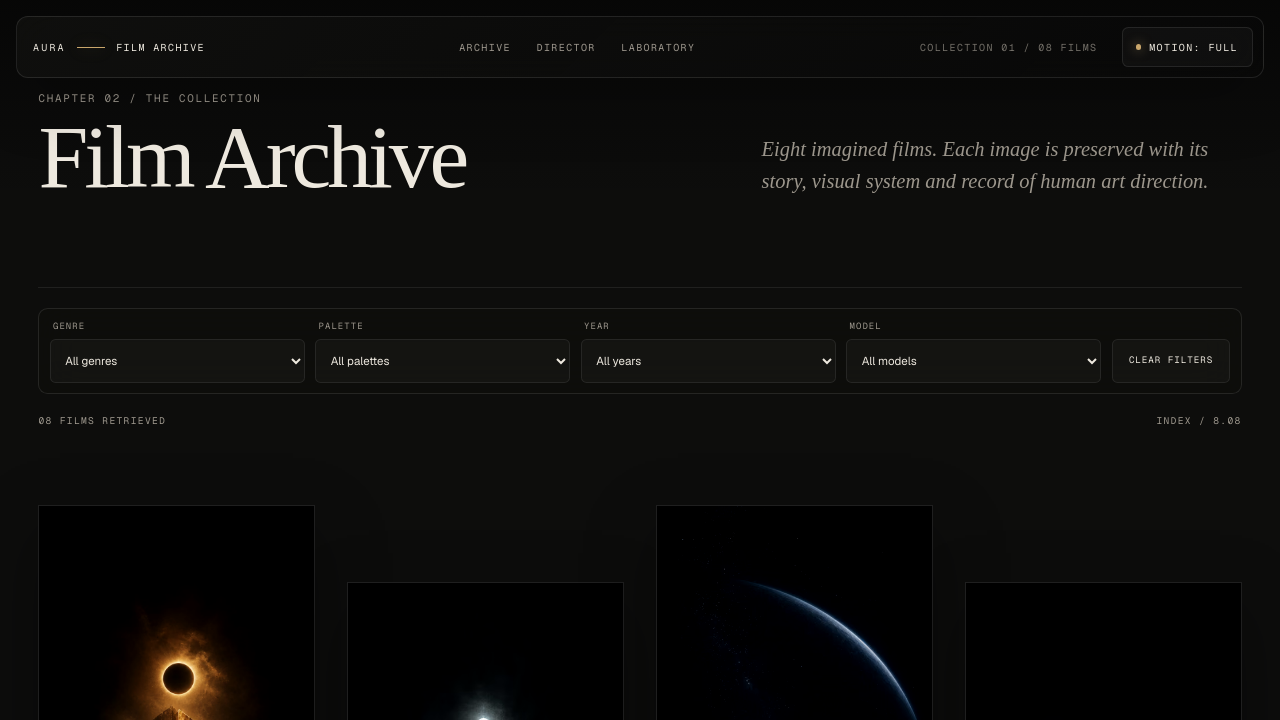
Test: archive flow › filters the wall immediately and clears the selection
(page scrolled)
Step 1. Select "Neo-noir" in the dropdown labelled "Genre" → coordinates (177, 360), box [50,338,305,382]
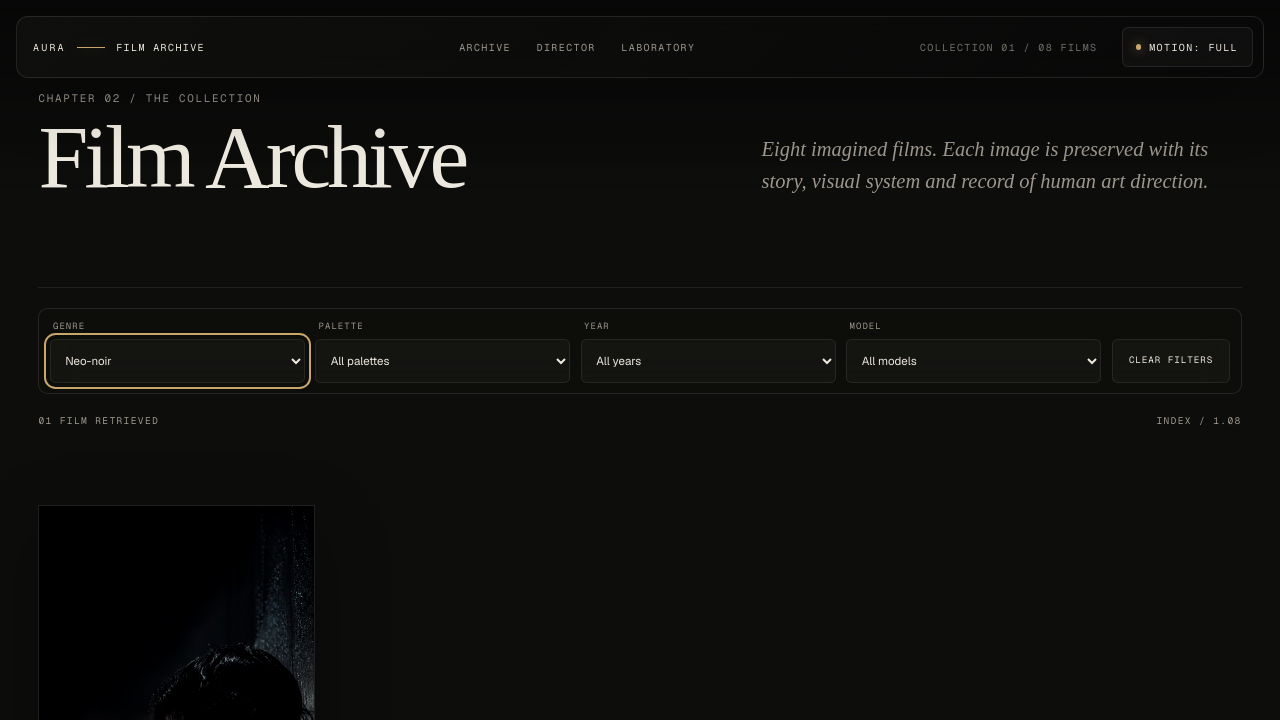
Check: the text "01 FILM RETRIEVED" is shown, box [38,414,159,428]
Step 2. Click the button "CLEAR FILTERS" → coordinates (1171, 360), box [1112,338,1230,382]
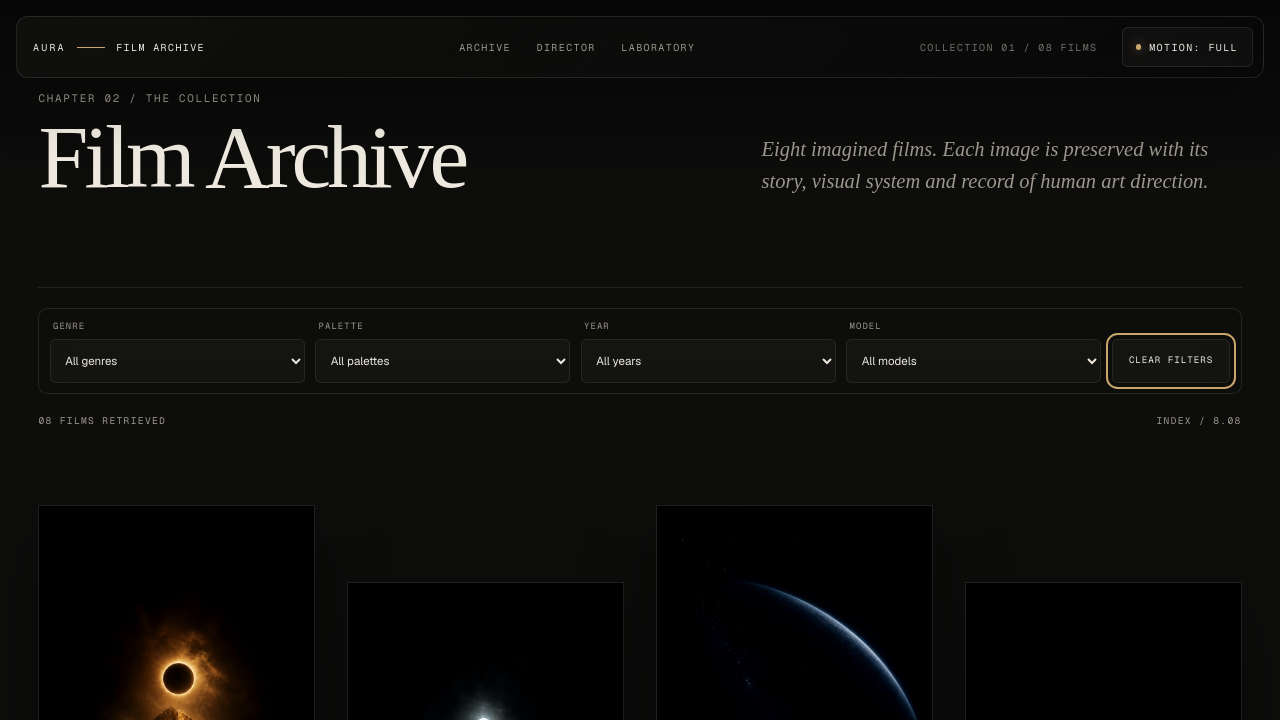
Check: the text "08 FILMS RETRIEVED" is shown, box [38,414,166,428]
